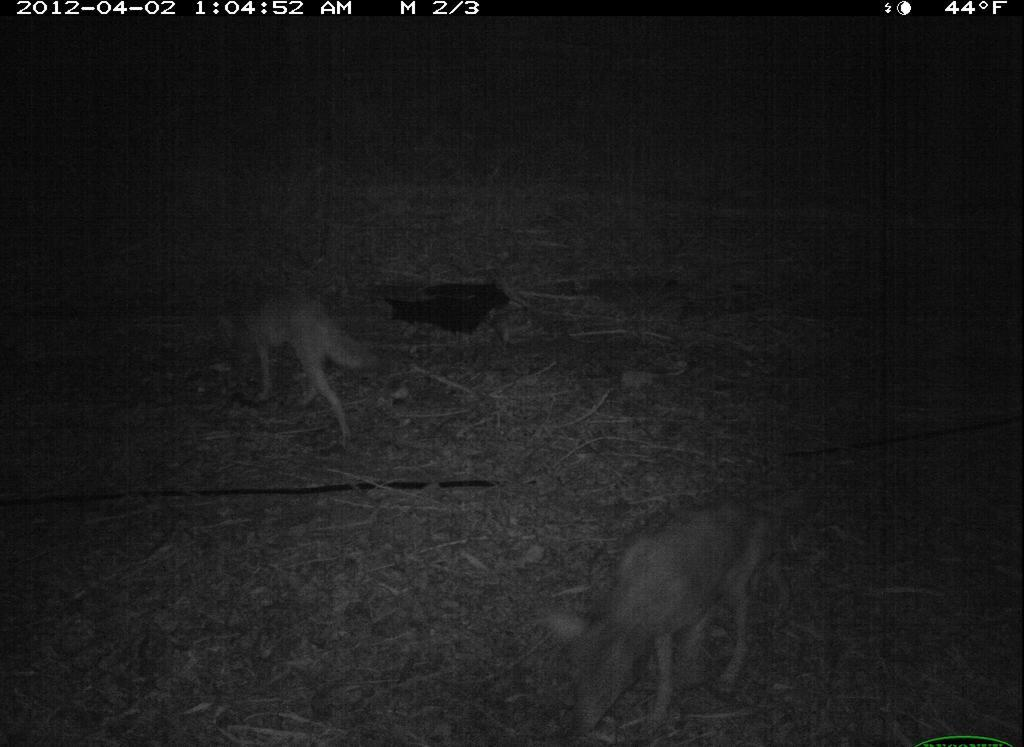coyote: (533, 486, 809, 742), (207, 281, 382, 449)
